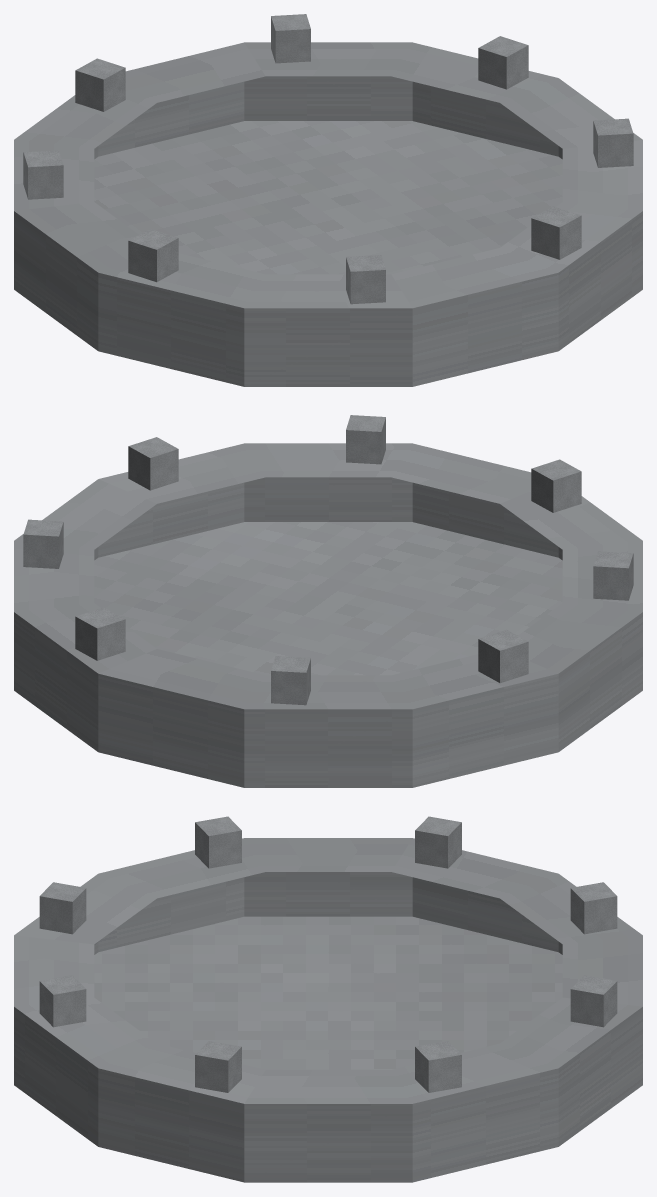
The model's file is port_down.obj.
3 renders of one model, top to bottom at view 1: azimuth 30°, elevation 25°; view 2: azimuth 150°, elevation 25°; view 3: azimuth 270°, elevation 25°, orthographic.
Bounding box in the file's own units: 0.9062 × 0.1766 × 0.9062.
